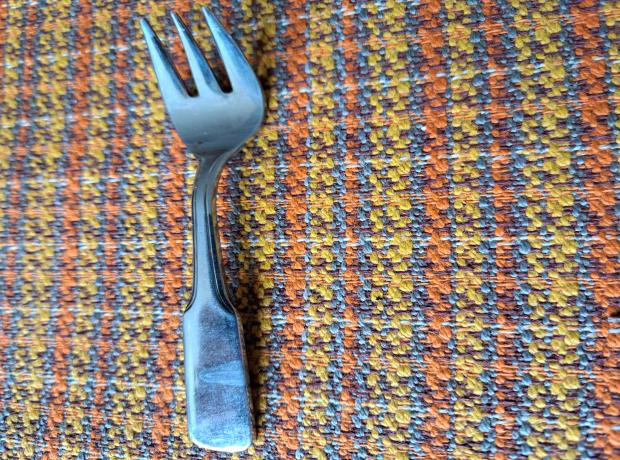metal: (129, 2, 270, 452)
